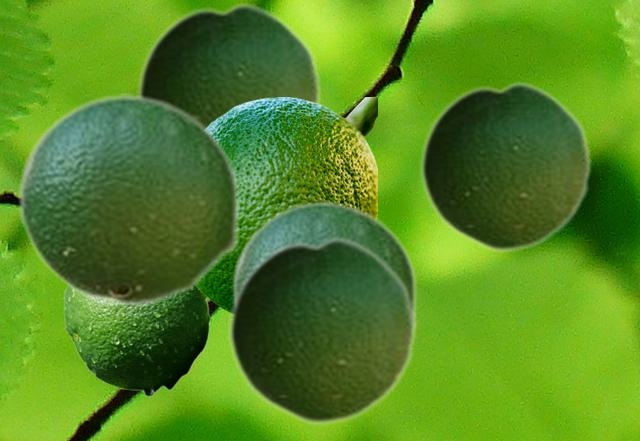dalandan: (17, 93, 240, 307), (196, 97, 376, 313), (227, 234, 416, 426), (419, 79, 591, 253), (231, 200, 417, 329), (136, 0, 321, 123), (63, 286, 211, 396)
